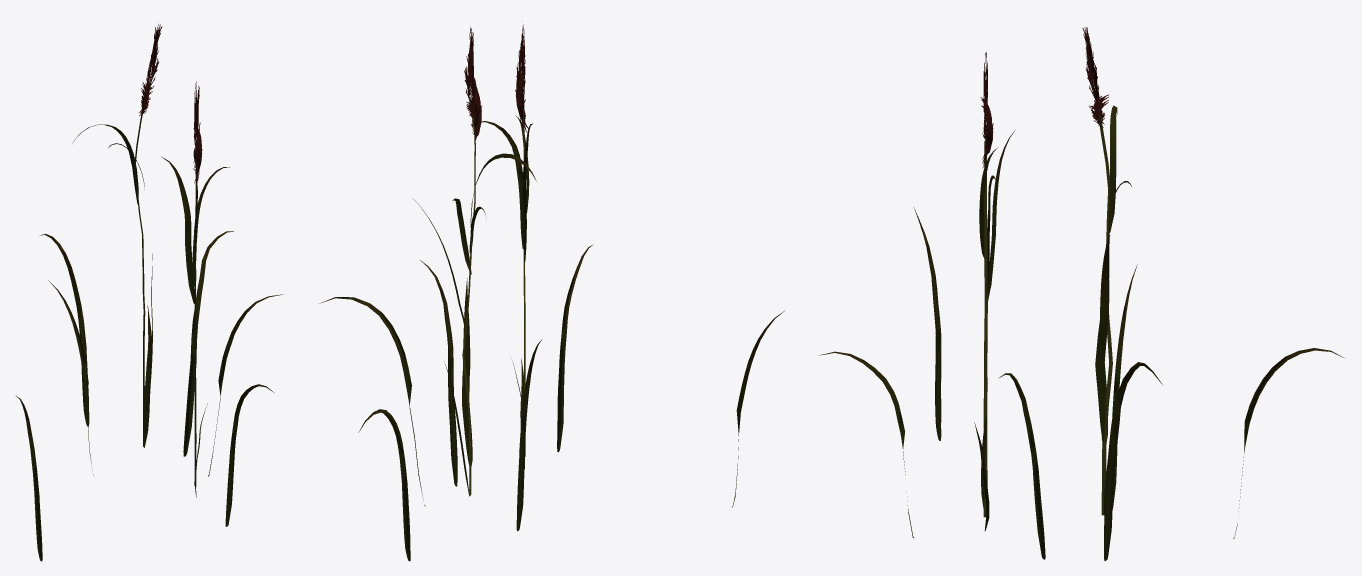
3 views of the same model, side by side, from view 1: azimuth 30°, elevation 25°; view 2: azimuth 150°, elevation 25°; view 3: azimuth 270°, elevation 25° (orthographic). The views are drawn at different scales.
Parts seen in each view (by area): view 1: SM_DR_GrassLongSeeded_01_LOD0; view 2: SM_DR_GrassLongSeeded_01_LOD0; view 3: SM_DR_GrassLongSeeded_01_LOD0.
Part boxes in pixels (x1,y1,x2,y2): SM_DR_GrassLongSeeded_01_LOD0: (15, 24, 283, 561); SM_DR_GrassLongSeeded_01_LOD0: (319, 21, 784, 561); SM_DR_GrassLongSeeded_01_LOD0: (819, 27, 1343, 561).
Size of the model in its own units: 1 by 1.33 by 1.21.
1 material, 1 textured.
